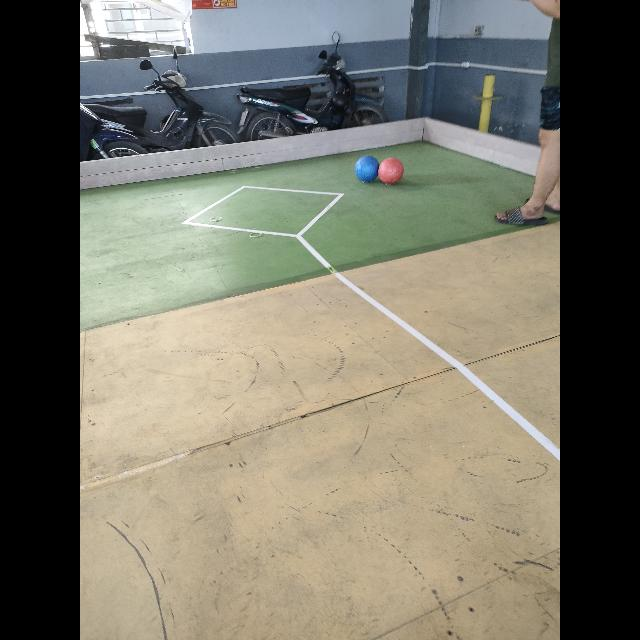B: (355, 155, 379, 182)
R: (379, 158, 404, 184)
